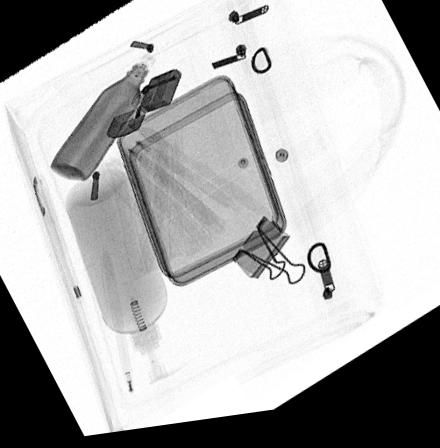Lighter: (106, 73, 181, 141)
